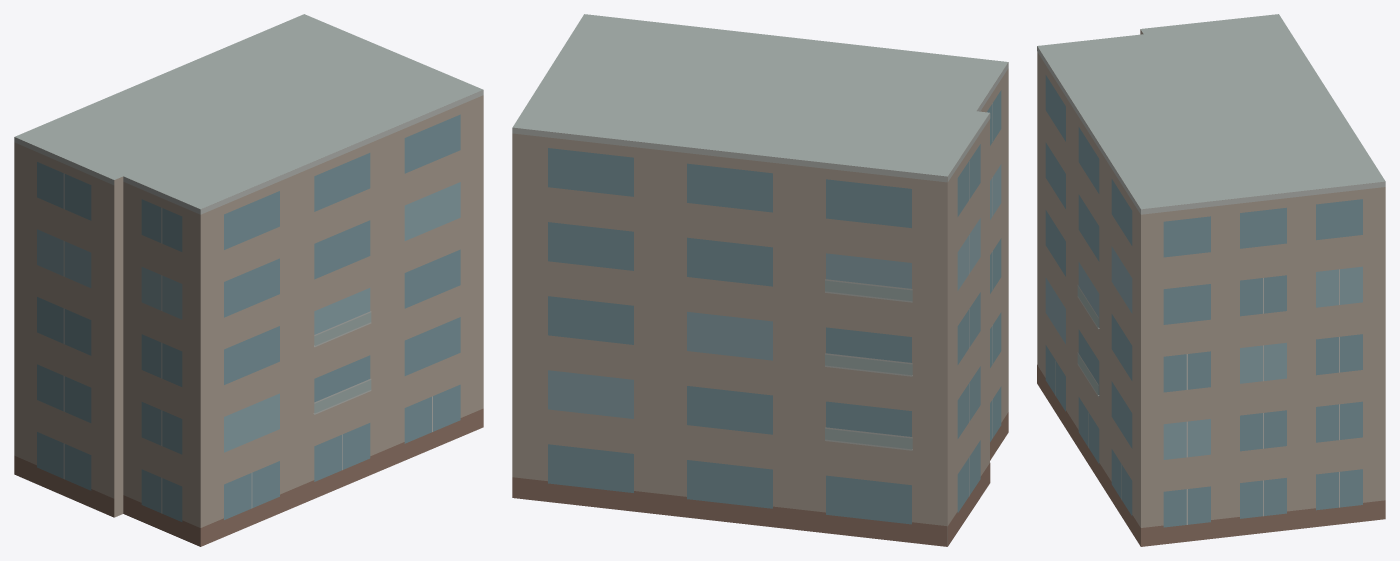
The model's file is survey-upis-32710399.glb.
3 views of the same model, side by side, from view 1: azimuth 30°, elevation 25°; view 2: azimuth 150°, elevation 25°; view 3: azimuth 270°, elevation 25° (orthographic). The views are drawn at different scales.
Parts seen in each view (by area): view 1: survey-upis-32710399.tmp; view 2: survey-upis-32710399.tmp; view 3: survey-upis-32710399.tmp.
Boxes of the visible parts, x1,y1,x2,y2 form: survey-upis-32710399.tmp: [14, 14, 483, 546]; survey-upis-32710399.tmp: [512, 14, 1008, 546]; survey-upis-32710399.tmp: [1037, 14, 1385, 546].
Size of the model in its own units: 18.93 by 15.25 by 14.28.
